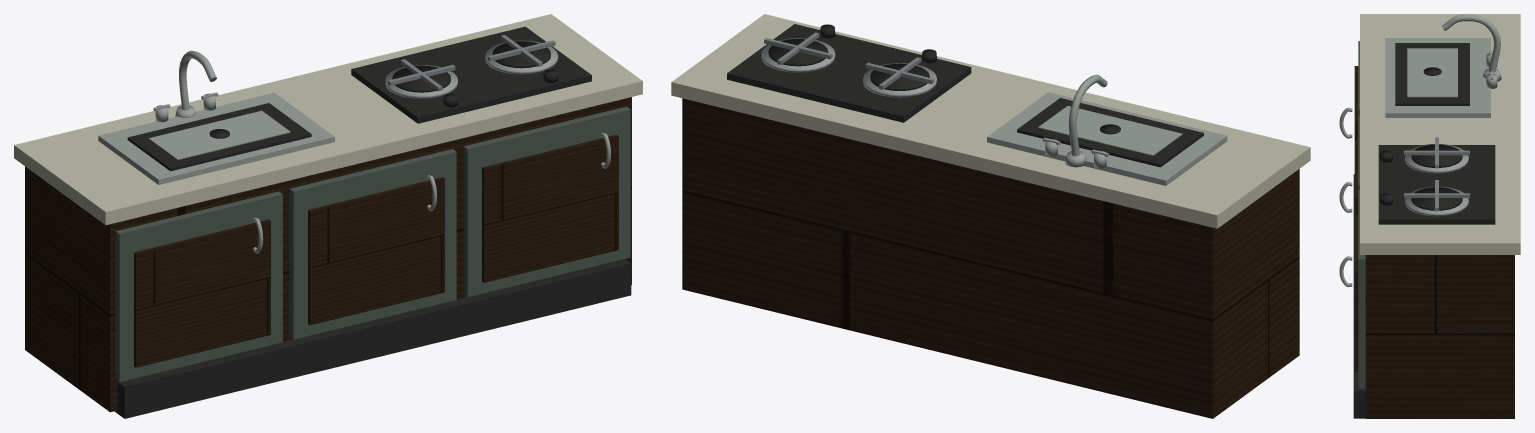
Rendered from kitchen-counter.glb.
The picture shows the model from 3 angles, left to right: view 1: azimuth 30°, elevation 25°; view 2: azimuth 150°, elevation 25°; view 3: azimuth 270°, elevation 25°; orthographic projection. The views are drawn at different scales.
Visible parts, largest first — view 1: Laminate worktop, Kitchen cabinet carcass, Dark kickboard, Inset cupboard field, Inset cupboard field.002, Inset cupboard field.001, Panel cupboard door.001, Panel cupboard door, Panel cupboard door.002, Two ring hob plate, Sink rim, Sink recess (+6 smaller); view 2: Kitchen cabinet carcass, Laminate worktop, Two ring hob plate, Sink rim, Sink recess, Stained basin bottom, Hob dark burner, Hob dark burner.001, Chrome mixer swan neck, Hob enamel ring.001, Hob enamel ring; view 3: Kitchen cabinet carcass, Laminate worktop, Two ring hob plate, Sink rim, Stained basin bottom, Sink recess, Panel cupboard door.002, Dark kickboard, Inset cupboard field.002, Chrome mixer swan neck, Hob dark burner, Hob dark burner.001 (+9 smaller).
Part boxes in pixels (x1=…): Laminate worktop: x1=14, y1=14, x2=642, y2=225; Kitchen cabinet carcass: x1=25, y1=97, x2=631, y2=412; Dark kickboard: x1=115, y1=259, x2=631, y2=418; Inset cupboard field: x1=134, y1=219, x2=270, y2=367; Inset cupboard field.002: x1=482, y1=134, x2=618, y2=282; Inset cupboard field.001: x1=308, y1=177, x2=444, y2=325; Panel cupboard door.001: x1=289, y1=149, x2=456, y2=339; Panel cupboard door: x1=115, y1=191, x2=282, y2=381; Panel cupboard door.002: x1=463, y1=106, x2=630, y2=296; Two ring hob plate: x1=351, y1=26, x2=591, y2=123; Sink rim: x1=98, y1=92, x2=334, y2=184; Sink recess: x1=127, y1=103, x2=311, y2=171; Kitchen cabinet carcass: x1=682, y1=98, x2=1299, y2=418; Laminate worktop: x1=671, y1=14, x2=1310, y2=228; Two ring hob plate: x1=727, y1=24, x2=971, y2=122; Sink rim: x1=987, y1=92, x2=1227, y2=185; Sink recess: x1=1017, y1=98, x2=1203, y2=167; Stained basin bottom: x1=1038, y1=105, x2=1182, y2=155; Hob dark burner: x1=870, y1=63, x2=929, y2=90; Hob dark burner.001: x1=768, y1=39, x2=828, y2=66; Chrome mixer swan neck: x1=1069, y1=74, x2=1107, y2=156; Hob enamel ring.001: x1=761, y1=38, x2=835, y2=72; Hob enamel ring: x1=863, y1=63, x2=936, y2=97; Kitchen cabinet carcass: x1=1365, y1=255, x2=1514, y2=418; Laminate worktop: x1=1360, y1=14, x2=1520, y2=254; Two ring hob plate: x1=1378, y1=145, x2=1495, y2=224; Sink rim: x1=1385, y1=38, x2=1490, y2=117; Stained basin bottom: x1=1407, y1=48, x2=1457, y2=97; Sink recess: x1=1395, y1=43, x2=1469, y2=105; Panel cupboard door.002: x1=1358, y1=189, x2=1365, y2=388; Dark kickboard: x1=1353, y1=174, x2=1365, y2=418; Inset cupboard field.002: x1=1354, y1=214, x2=1358, y2=371; Chrome mixer swan neck: x1=1442, y1=14, x2=1500, y2=72; Hob dark burner: x1=1411, y1=144, x2=1462, y2=167; Hob dark burner.001: x1=1411, y1=187, x2=1462, y2=210.
Bounding box in the file's own units: 2.47 × 1.24 × 0.8238.
6 materials, 1 textured.
